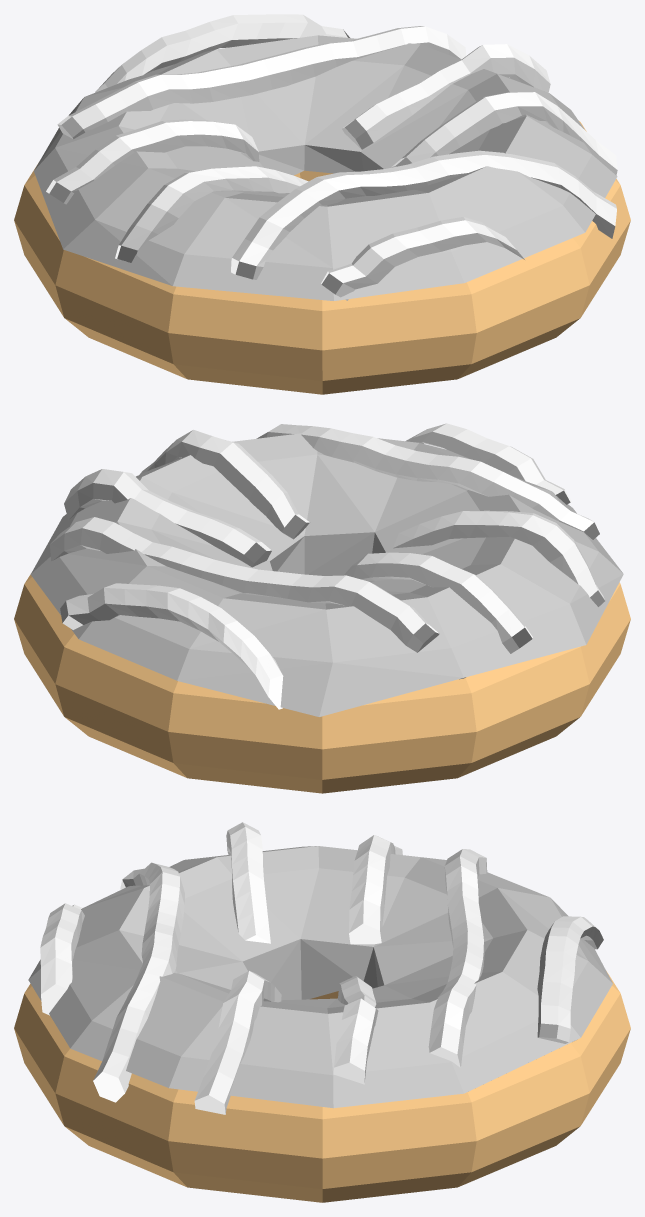
Rendered from Chocolatev3.obj.
3 renders of one model, top to bottom at view 1: azimuth 30°, elevation 25°; view 2: azimuth 150°, elevation 25°; view 3: azimuth 270°, elevation 25°, orthographic.
Bounding box in the file's own units: 0.34 × 0.1149 × 0.34.
